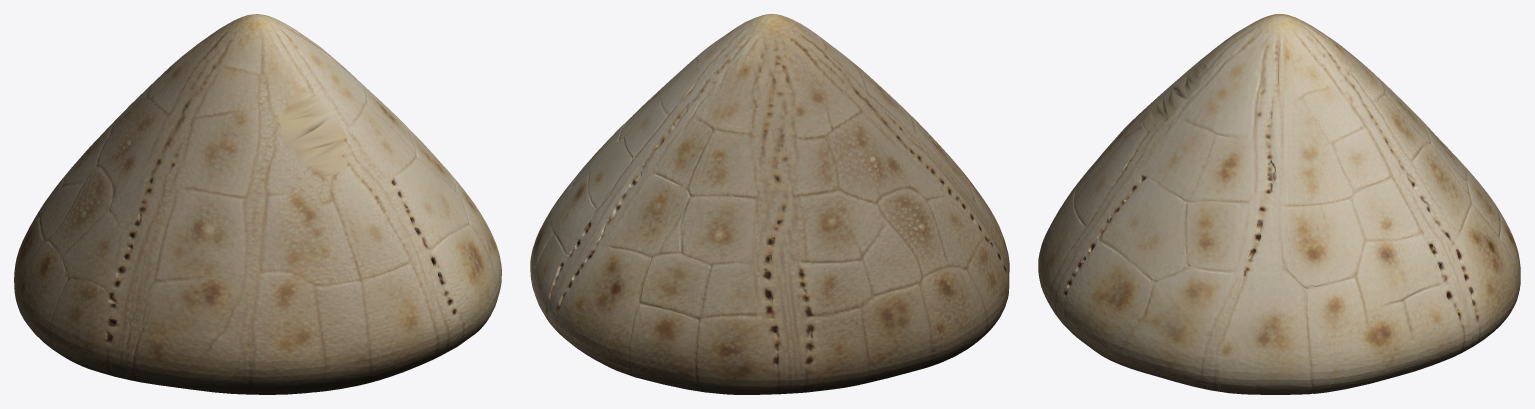
3 renders of one model, left to right at view 1: azimuth 30°, elevation 25°; view 2: azimuth 150°, elevation 25°; view 3: azimuth 270°, elevation 25°, orthographic.
Visible parts, largest first — view 1: geometry_0; view 2: geometry_0; view 3: geometry_0.
Part boxes in pixels (x1=…): geometry_0: x1=14, y1=14, x2=501, y2=394; geometry_0: x1=530, y1=14, x2=1009, y2=394; geometry_0: x1=1038, y1=14, x2=1520, y2=394.
Bounding box in the file's own units: 0.9334 × 0.6205 × 0.9251.
Materials: 2 (1 with a texture image).
